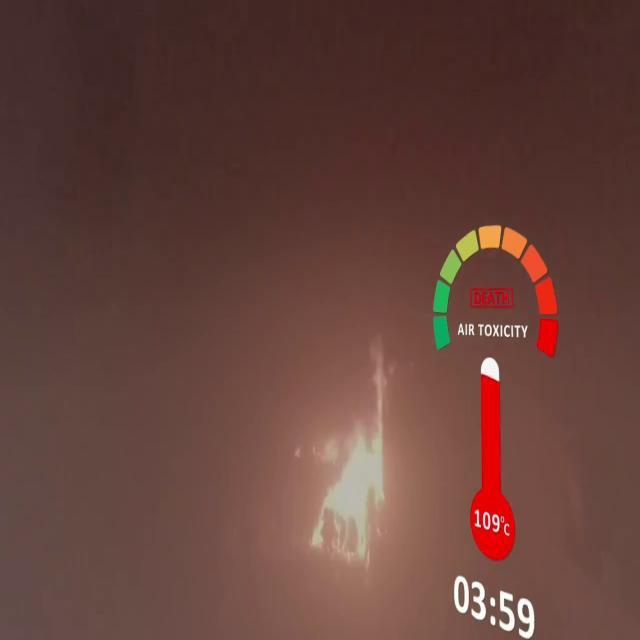Fire: (321, 434, 382, 562), (480, 348, 502, 551)
Smoke: (82, 0, 420, 299), (12, 274, 280, 636), (410, 0, 640, 223), (0, 16, 127, 254), (532, 373, 640, 632)
